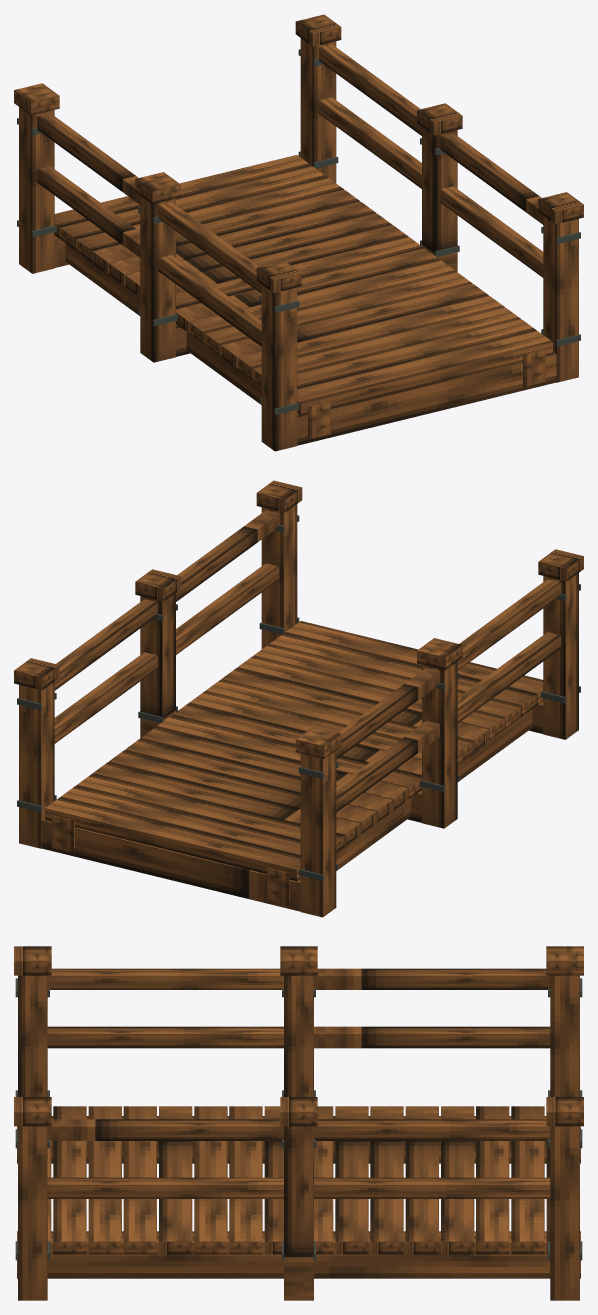
Rendered from SM_HP_Bridge_LOD1.fbx.
3 views of the same model, one above another, from view 1: azimuth 30°, elevation 25°; view 2: azimuth 150°, elevation 25°; view 3: azimuth 270°, elevation 25° (orthographic). The views are drawn at different scales.
Visible parts, largest first — view 1: SM_HP_Bridge_LOD1; view 2: SM_HP_Bridge_LOD1; view 3: SM_HP_Bridge_LOD1.
Part boxes in pixels (left/top/right/bottom): SM_HP_Bridge_LOD1: left=14, top=14, right=583, bottom=451; SM_HP_Bridge_LOD1: left=14, top=480, right=583, bottom=917; SM_HP_Bridge_LOD1: left=14, top=946, right=583, bottom=1300.
Bounding box in the file's own units: 2.51 × 3.64 × 1.34.
Materials: 2 (1 with a texture image).
